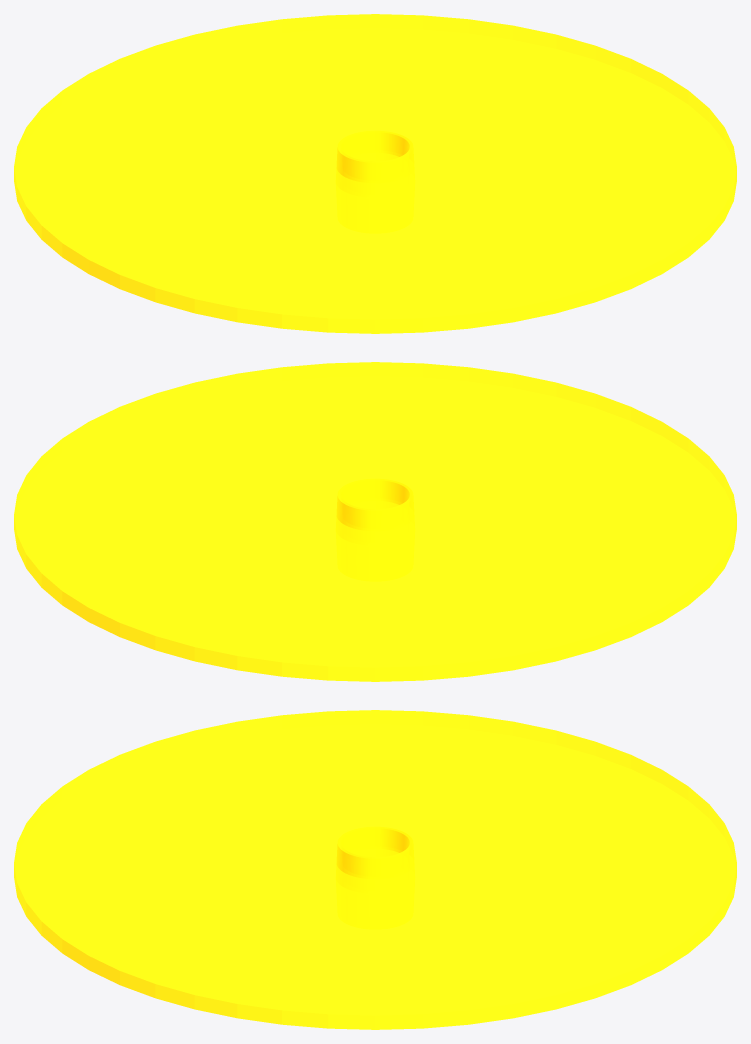
Rendered from ai-pulse.glb.
The picture shows the model from 3 angles, top to bottom: view 1: azimuth 30°, elevation 25°; view 2: azimuth 150°, elevation 25°; view 3: azimuth 270°, elevation 25°; orthographic projection.
Visible parts, largest first — view 1: ai_pulse_crown_intensifier, ai_pulse_expanding_ring; view 2: ai_pulse_crown_intensifier, ai_pulse_expanding_ring; view 3: ai_pulse_crown_intensifier, ai_pulse_expanding_ring.
Boxes of the visible parts, left/top/right/bottom form: ai_pulse_crown_intensifier: left=14, top=14, right=736, bottom=333; ai_pulse_expanding_ring: left=336, top=130, right=414, bottom=197; ai_pulse_crown_intensifier: left=14, top=362, right=736, bottom=681; ai_pulse_expanding_ring: left=336, top=478, right=414, bottom=545; ai_pulse_crown_intensifier: left=14, top=710, right=736, bottom=1029; ai_pulse_expanding_ring: left=336, top=826, right=414, bottom=893.
Bounding box in the file's own units: 1.6 × 0.1732 × 1.6.
